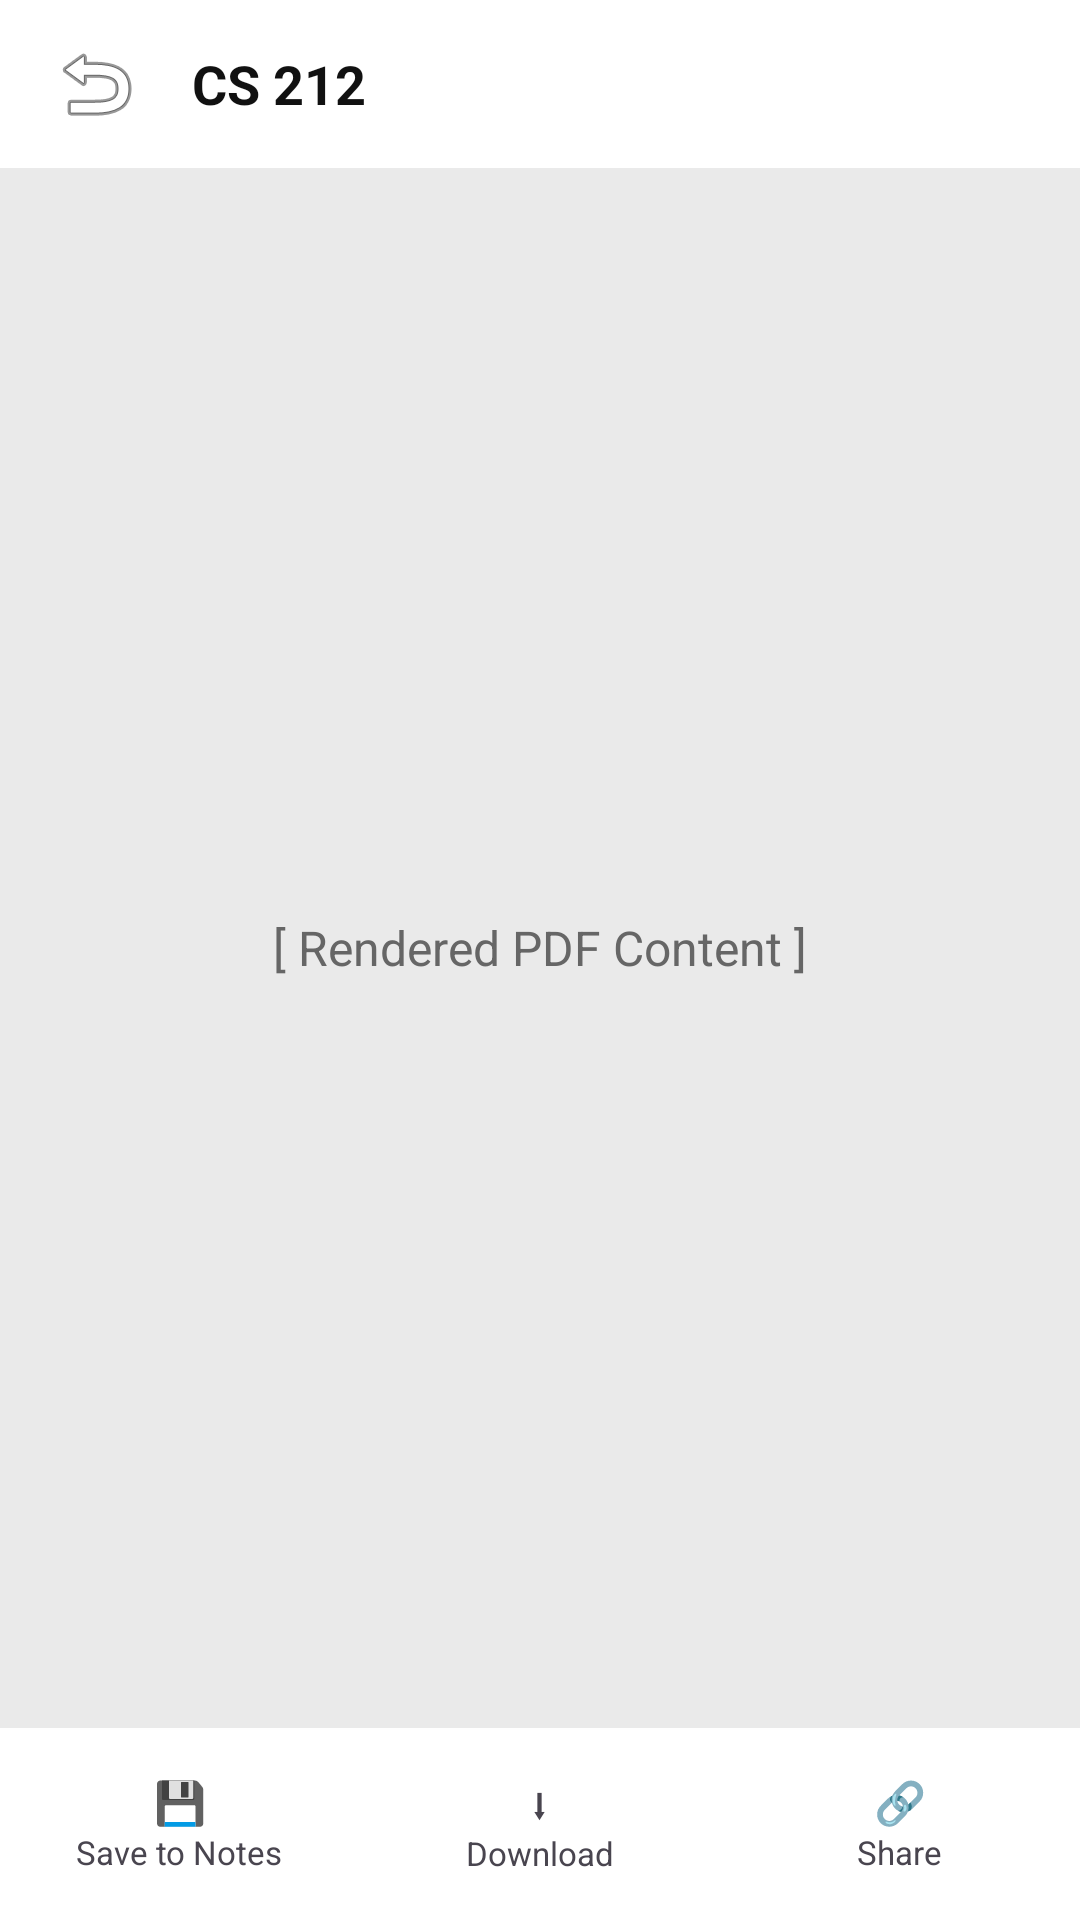

Icons on this 1080x1920 Android screen, each with the point to tap as point (x, y):
revert: point (97, 84)
